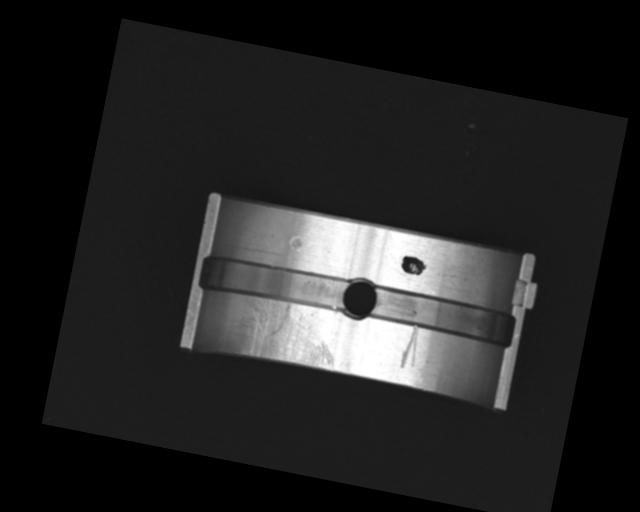blot: (399, 253, 429, 277)
bruise: (288, 234, 303, 252)
gap: (196, 250, 351, 317), (370, 285, 517, 346)
hole: (339, 274, 380, 322)
nick: (398, 322, 423, 370)
scratch: (236, 293, 344, 374)
